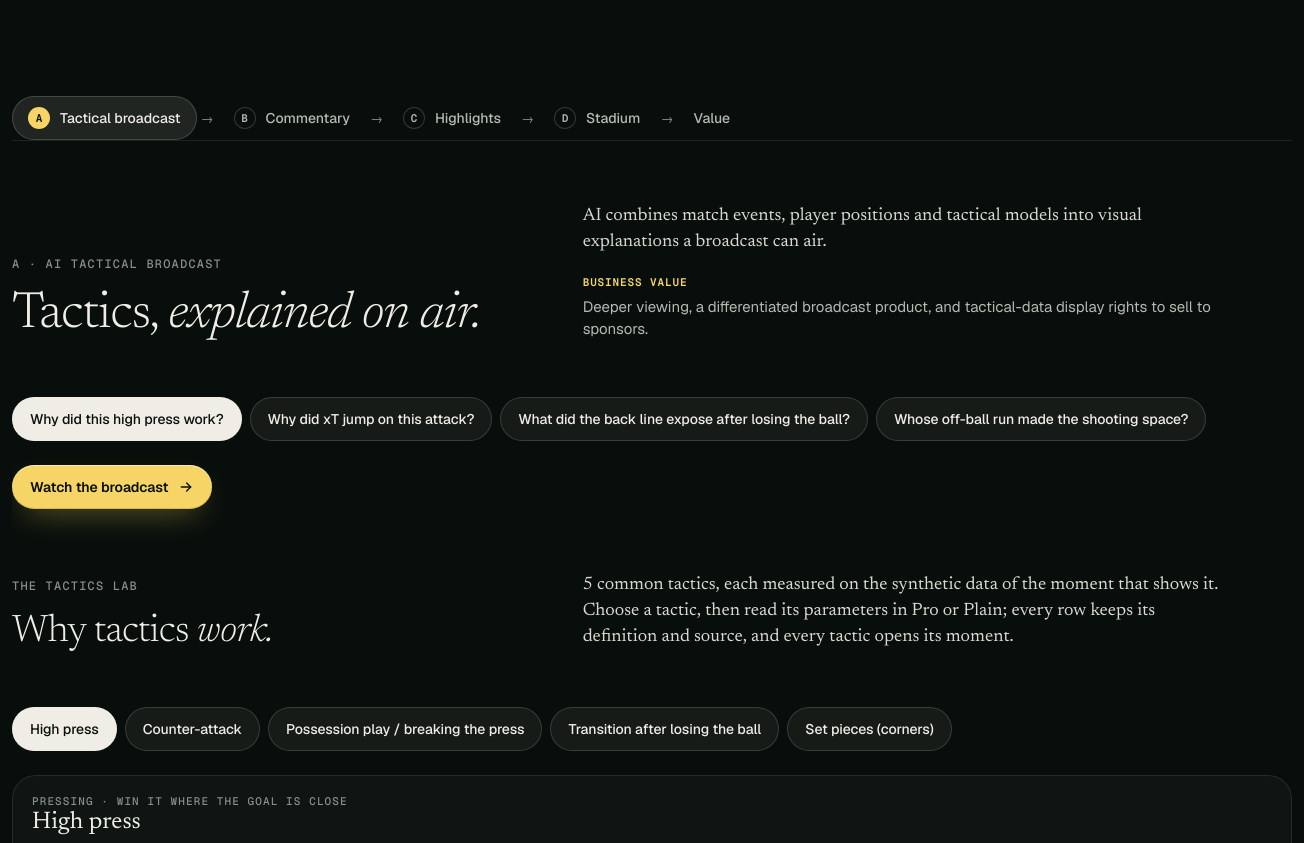
Test: the bar and its panels › C is the package for the league's channels, with the rights line
Click the tab "C Highlights".
click(452, 118)  # box [387,96,517,140]
(page scrolled)
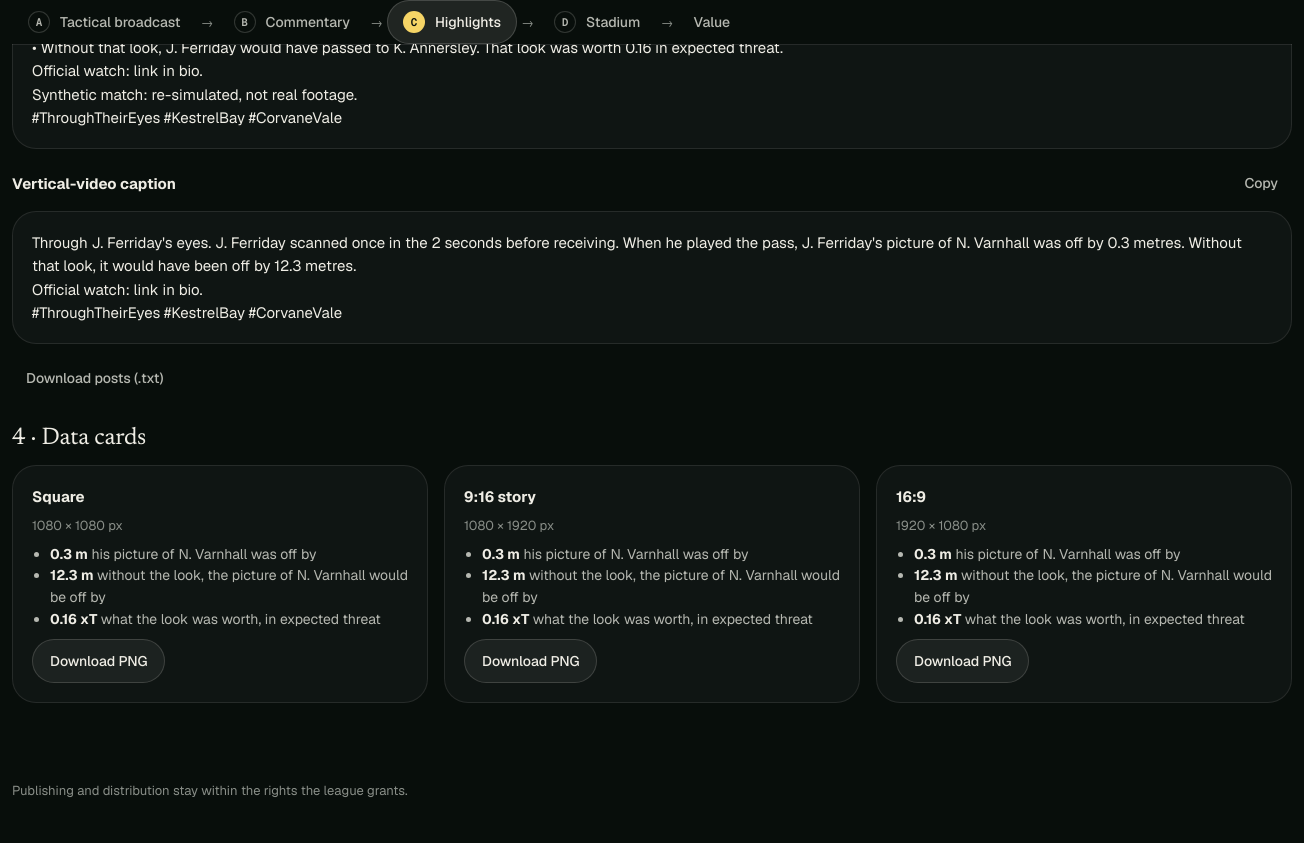
Result: the text with class "journey-rights" reads "Publishing and distribution stay within the rights the league grants." at [12,782,408,799]
